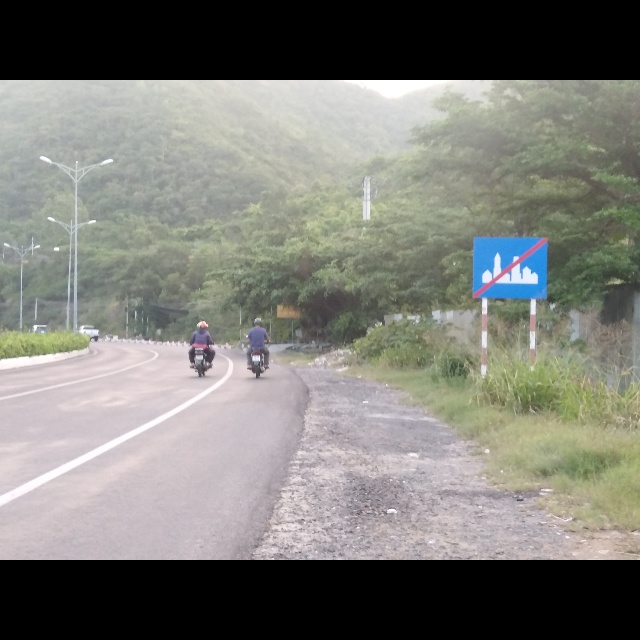Hết khu đông dân cư: (472, 236, 551, 303)
